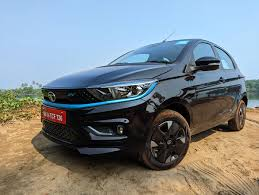Tiago: (39, 36, 248, 173)
